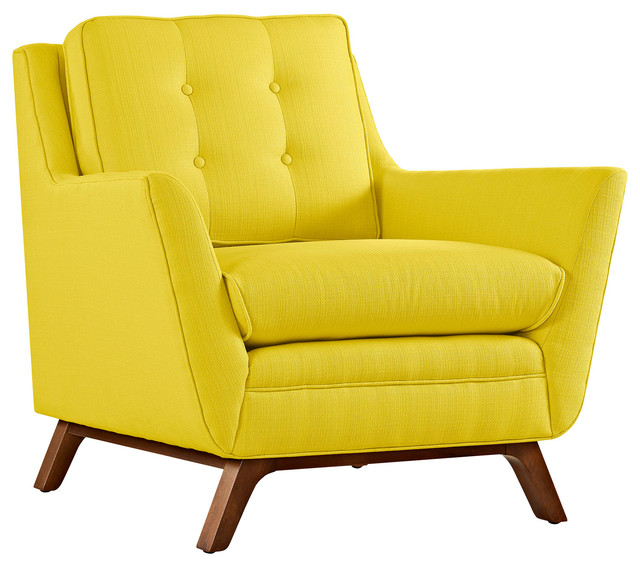chairs: (9, 14, 631, 555)
